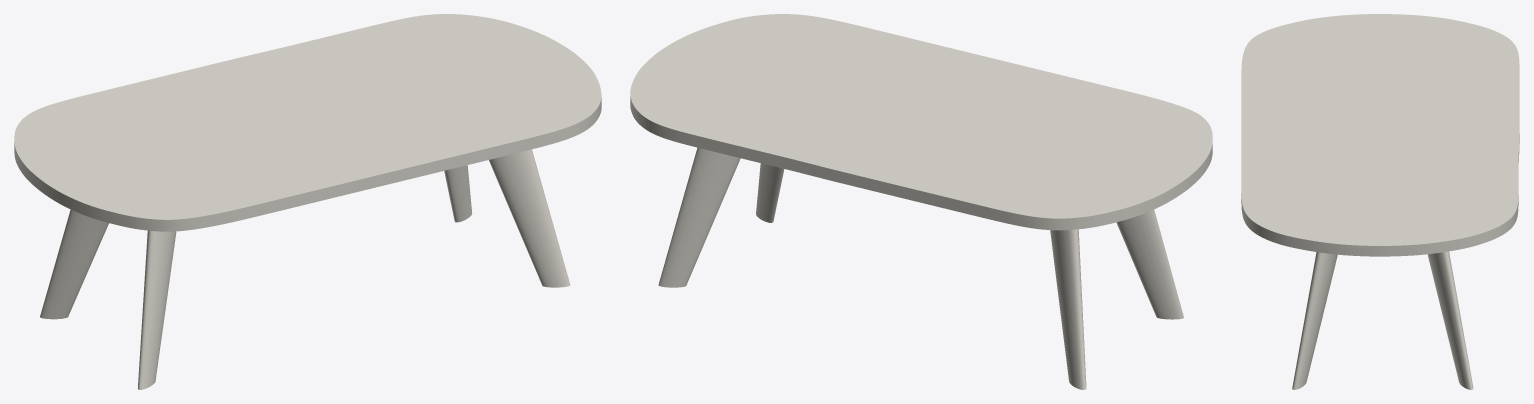
Rendered from pale_oval_standard_ferdinantwalnut.glb.
The picture shows the model from 3 angles, left to right: view 1: azimuth 30°, elevation 25°; view 2: azimuth 150°, elevation 25°; view 3: azimuth 270°, elevation 25°; orthographic projection. The views are drawn at different scales.
Visible parts, largest first — view 1: standard_oval, ferdinandwalnut; view 2: standard_oval, ferdinandwalnut; view 3: standard_oval, ferdinandwalnut.
Part boxes in pixels (x1,y1,x2,y2): standard_oval: (14, 14, 601, 231); ferdinandwalnut: (40, 149, 570, 389); standard_oval: (630, 14, 1212, 230); ferdinandwalnut: (658, 147, 1183, 389); standard_oval: (1241, 14, 1519, 256); ferdinandwalnut: (1292, 251, 1473, 389).
Bounding box in the file's own units: 7.5 × 2.51 × 3.8.
1 material, 1 textured.
